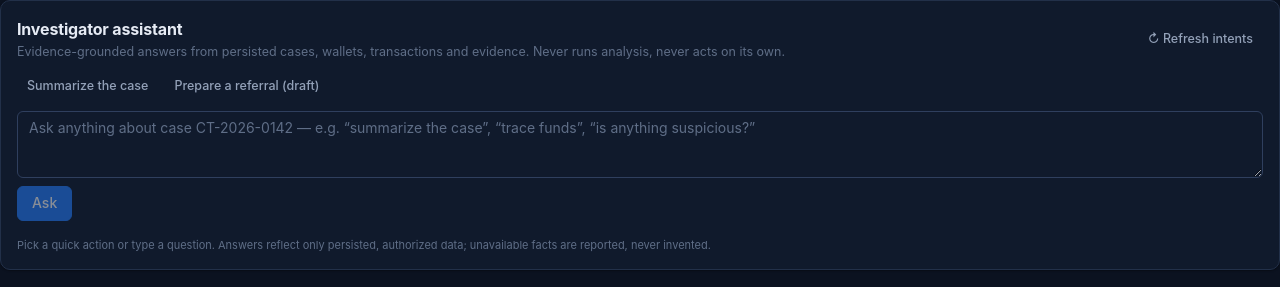
Test case: InvestigatorAssistant › surfaces the error message when the query fails
Click the button "Summarize the case": (88, 86) [17, 74, 158, 99]
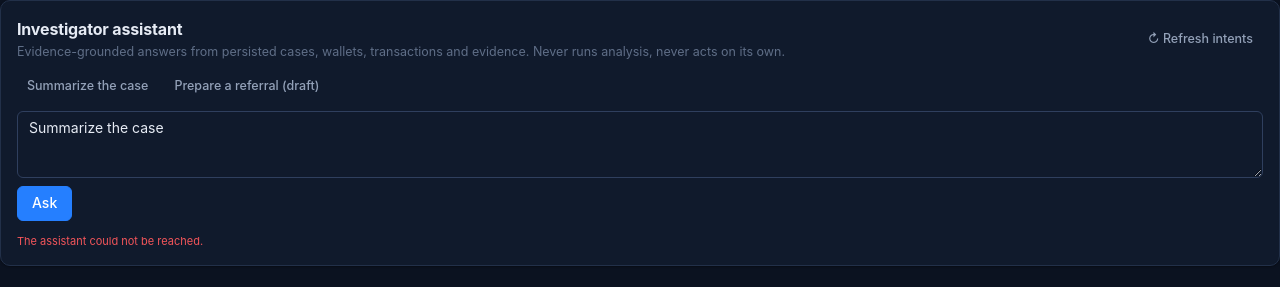
Check: the message reads "The assistant could not be reached.", box [17, 234, 203, 248]
